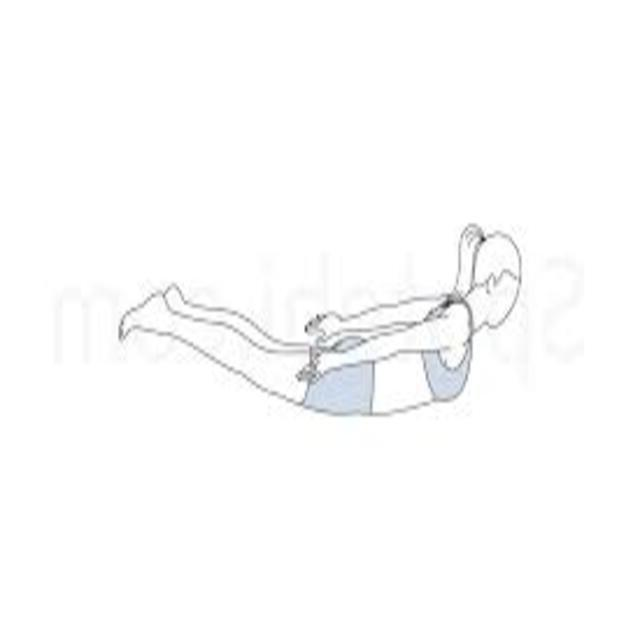Locust_Pose: (108, 222, 527, 420)
